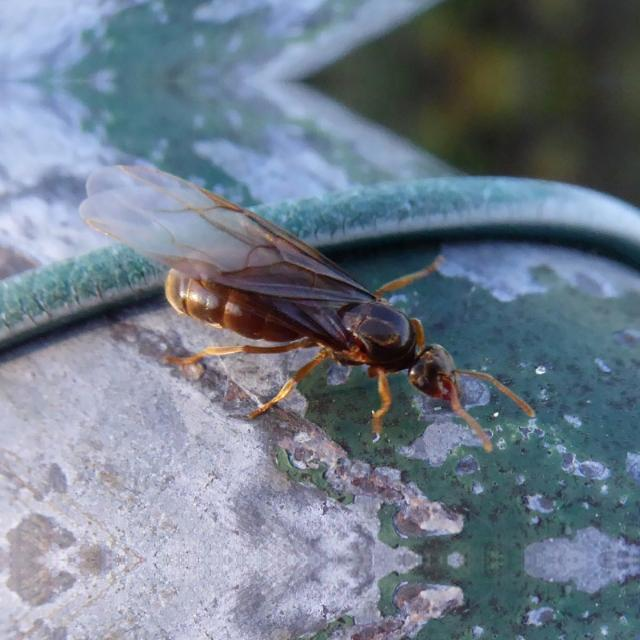Lasius: (119, 174, 503, 454)
